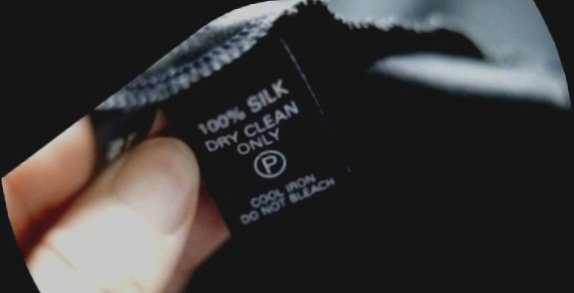dry_clean_any_solvent_except_trichloroethylene: (238, 130, 304, 195)
